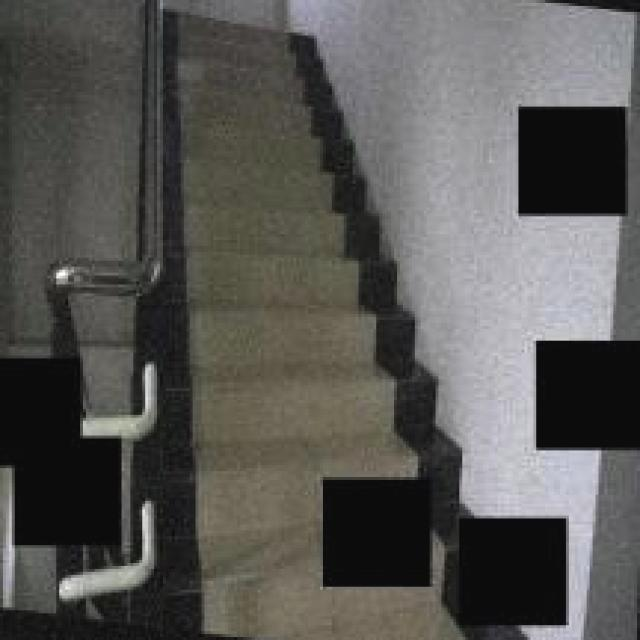upstair: (167, 1, 413, 640)
